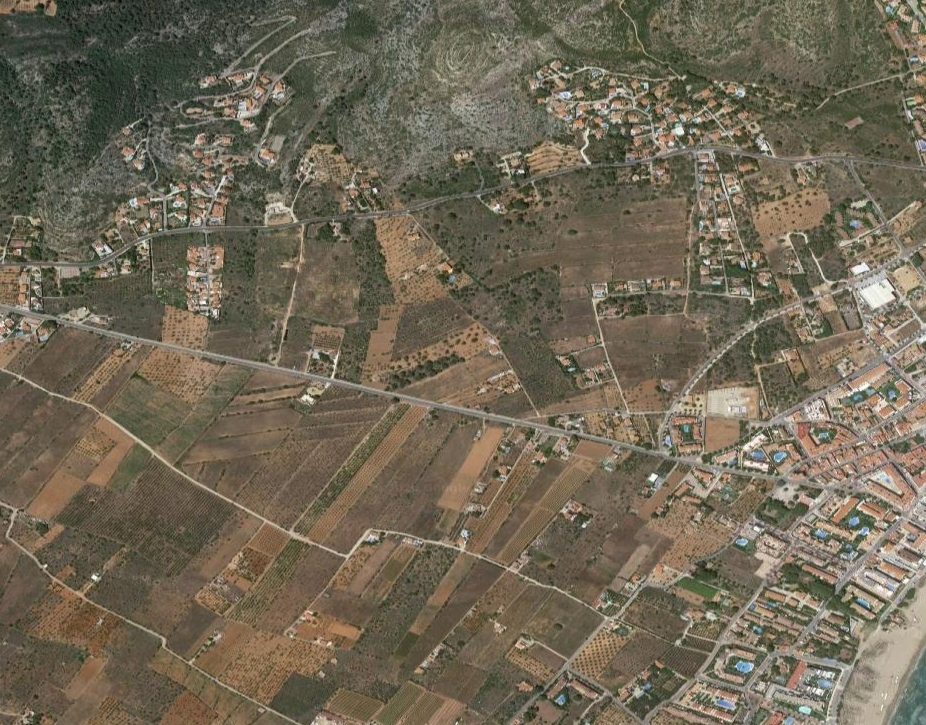motorway: (1, 122, 926, 294), (1, 299, 684, 471)
